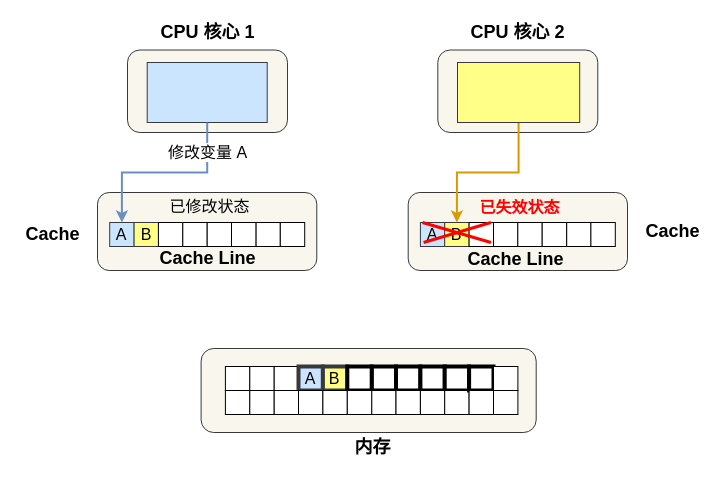
Some shapes in this 724 by 479 pixel diagram are drawn without their labels. The shapes that lost their labels are listed below. From the top down, each one's centre as x and y in pixels, then its label:
At point 206,92: "A 线程".
At point 518,92: "B 线程".
